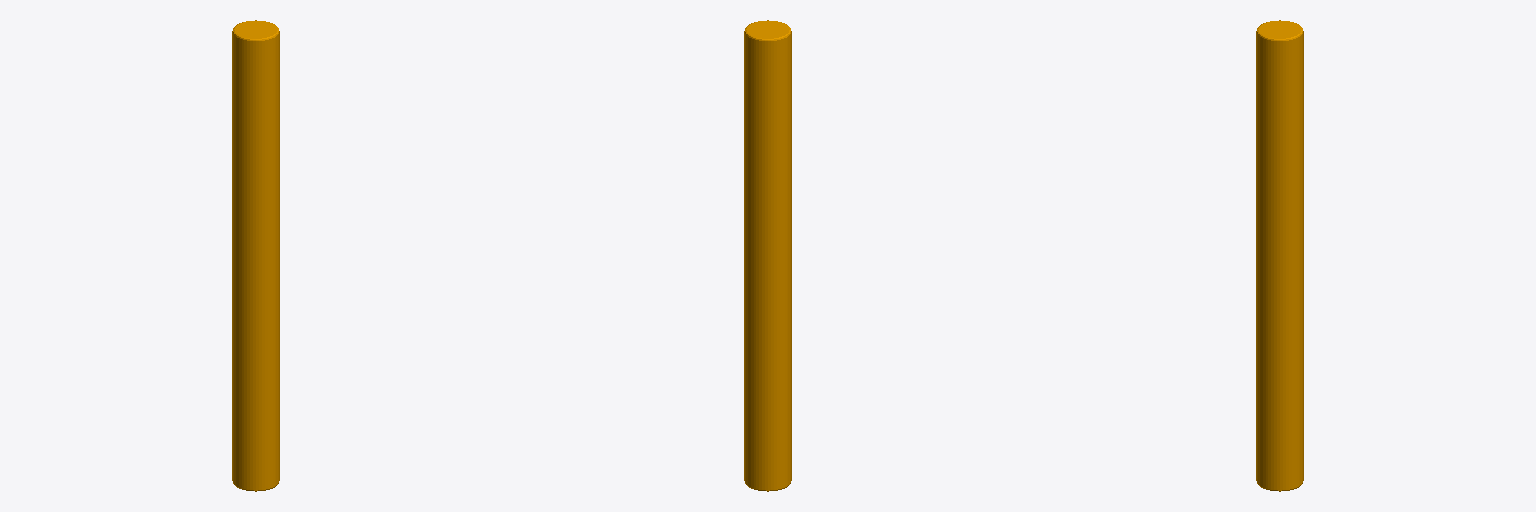
The robot description file, URDF, robot "bolt_washer_target_point":
<?xml version="1.0" ?>
<robot name="bolt_washer_target_point">
  <link name="base_link">
    <inertial>
      <origin xyz="0 0 0.0425" rpy="0 0 0"/>
      <mass value="0.002136283"/>
      <inertia ixx="1.2976139e-06" ixy="0" ixz="0" iyy="1.2976139e-06" iyz="0" izz="2.27870187e-08"/>
    </inertial>
    <visual name="visual">
      <origin xyz="0 0 0" rpy="0 0 0"/>
      <geometry>
        <mesh filename="meshes/visual.obj" scale="1 1 1"/>
      </geometry>
    </visual>
    <collision name="bolt">
      <origin xyz="0 0 0" rpy="0 0 0"/>
      <geometry>
        <mesh filename="meshes/collision/bolt.obj" scale="1 1 1"/>
      </geometry>
    </collision>
  </link>
</robot>

--- What the picture shows (computed from the rendered views, not written in the file) ---
The picture shows the robot from 3 angles, left to right: view 1: azimuth 30°, elevation 25°; view 2: azimuth 150°, elevation 25°; view 3: azimuth 270°, elevation 25°; orthographic projection.
Model bolt_washer_target_point with 1 links and 0 joints (none), rooted at base_link, posed every joint at zero.
Visible links, largest first — view 1: base_link; view 2: base_link; view 3: base_link.
Link boxes in pixels (<box>): base_link: <box>232,20,279,491</box>; base_link: <box>744,20,791,491</box>; base_link: <box>1256,20,1303,491</box>.
Size in the robot's own frame: 0.008 by 0.008 by 0.085 metres.
1 mesh visuals loaded from 1 distinct referenced files (1 OBJ).
